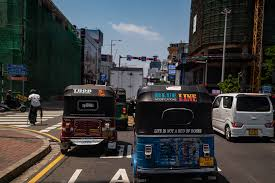tuk tuk: (131, 84, 221, 183), (58, 85, 117, 154)
